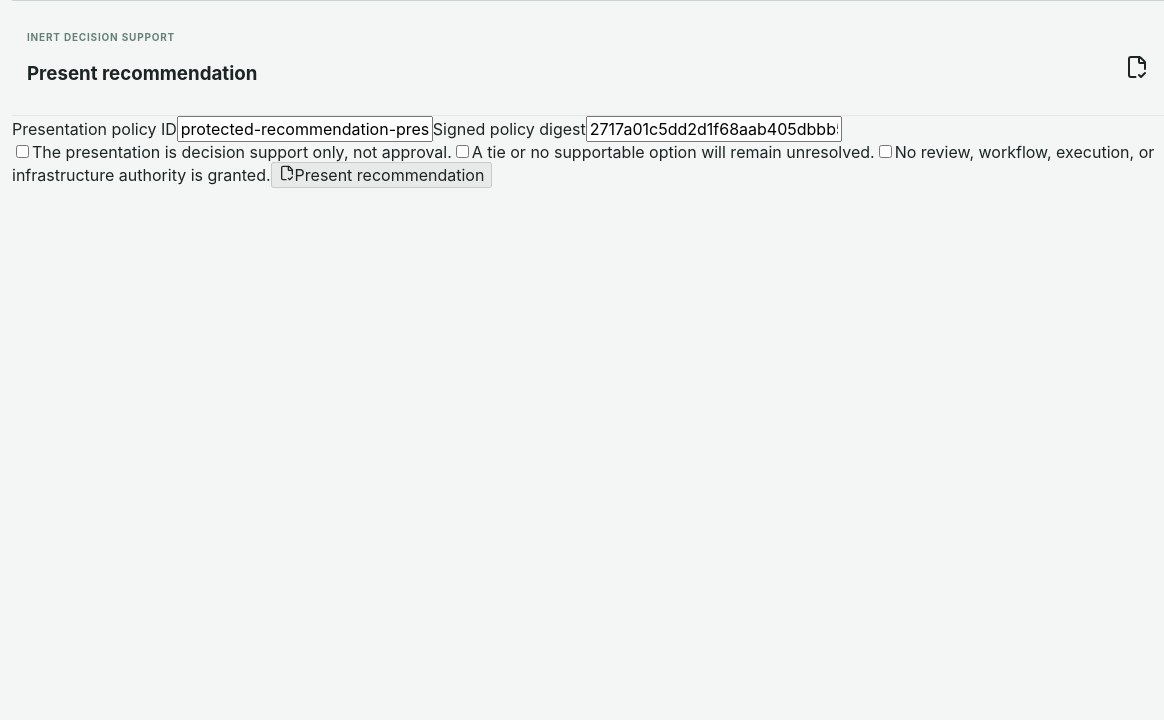
Test case: ProtectedRecommendationPresentationPanel › submits acknowledgements and renders safe recommendation details
Expected: the button "Present recommendation" is disabled, [271, 162, 492, 188]
Click the checkbox labelled "The presentation is decision support only, not approval.". click: (22, 152)
box: [16, 145, 29, 158]
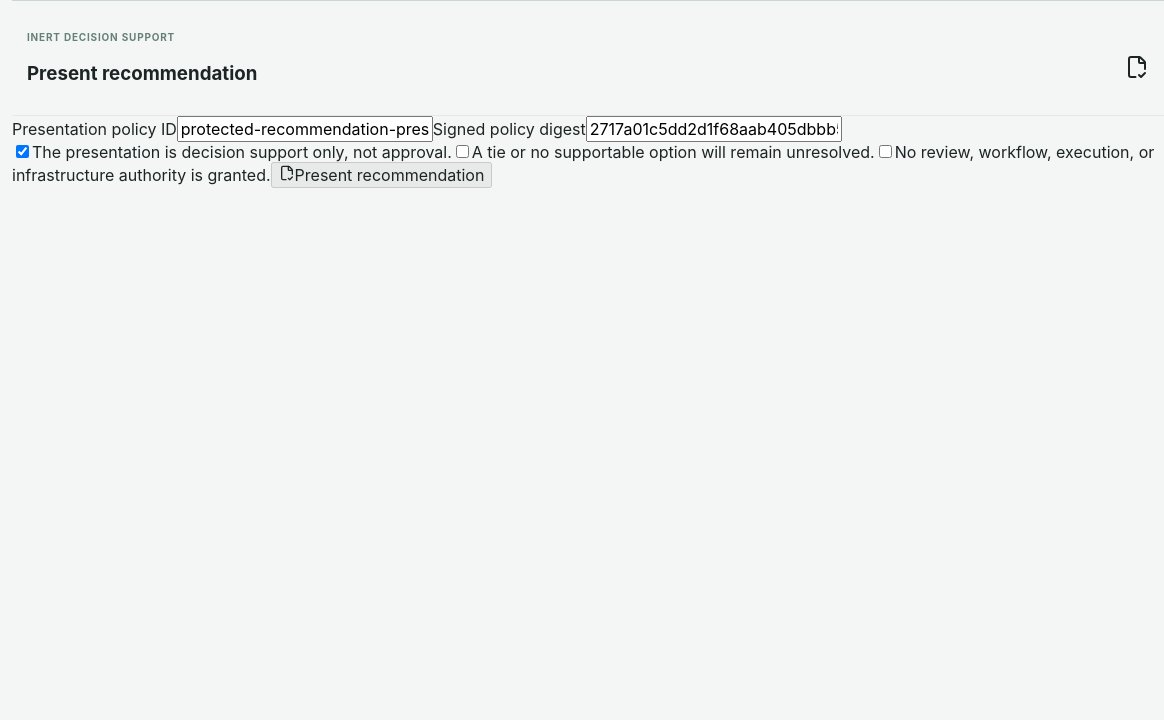
Click the checkbox labelled "A tie or no supportable option will remain unresolved.". click: (462, 152)
box: [456, 145, 469, 158]
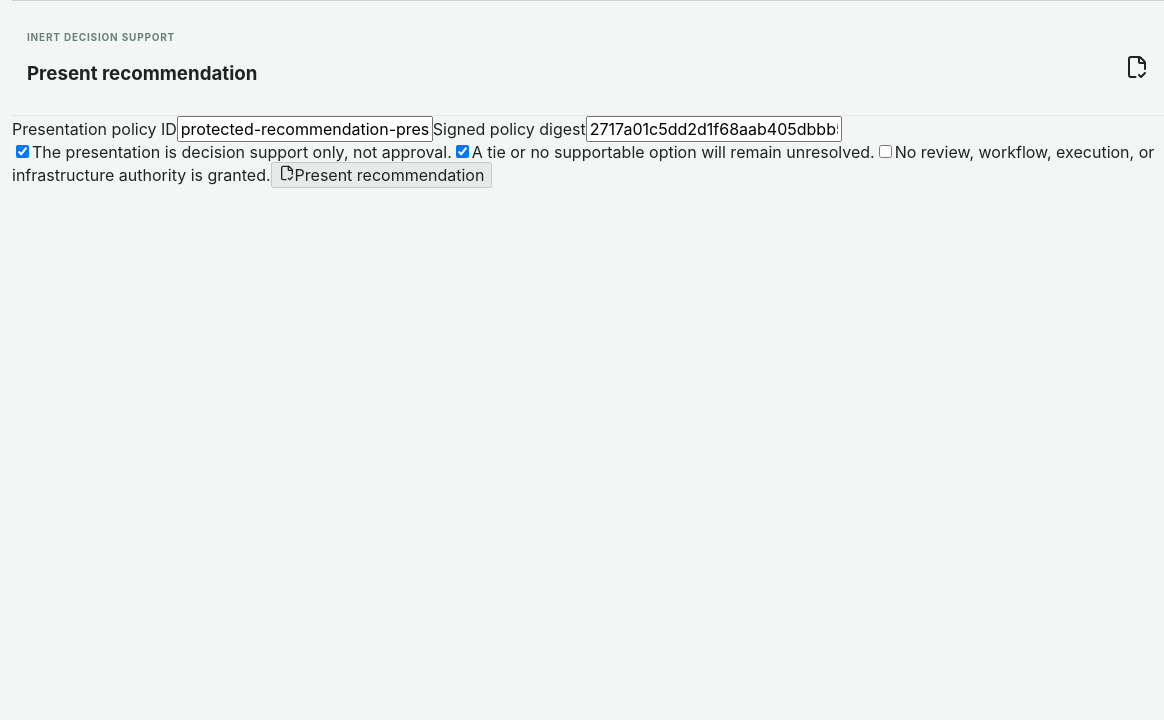
Click the checkbox labelled "No review, workflow, execution, or infrastructure authority is granted.". click: (885, 152)
box: [879, 145, 892, 158]
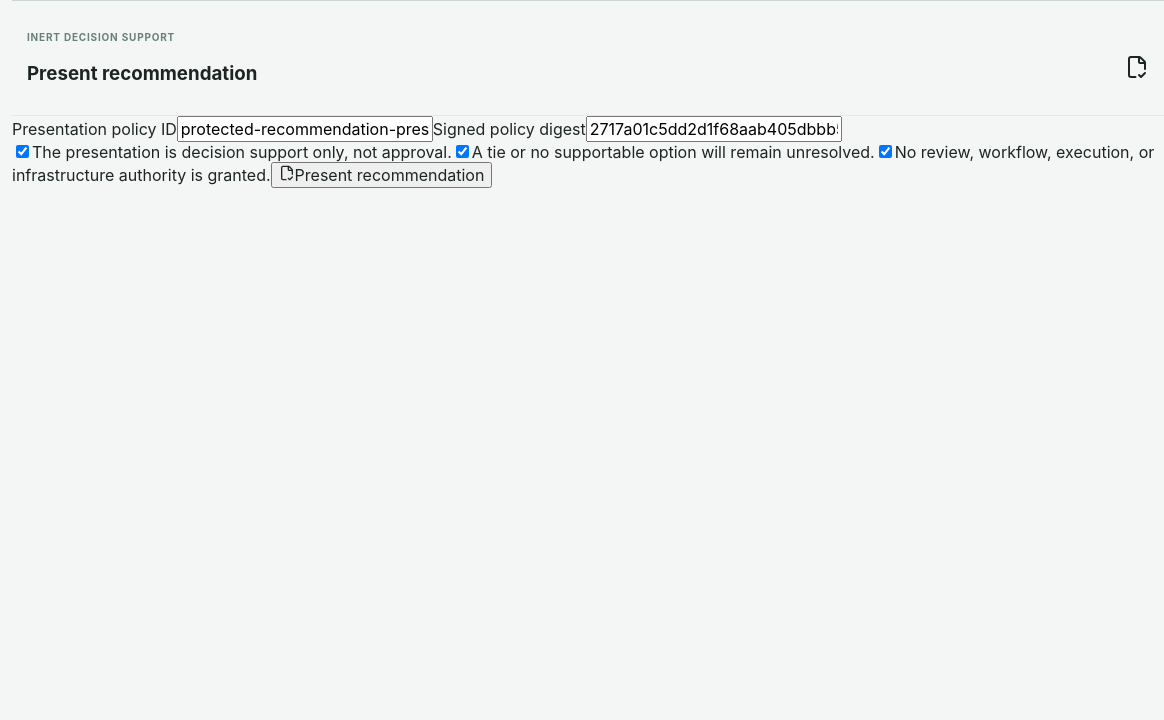
Result: the button "Present recommendation" is enabled
Click the button "Present recommendation". click: (382, 175)
box: [271, 162, 492, 188]
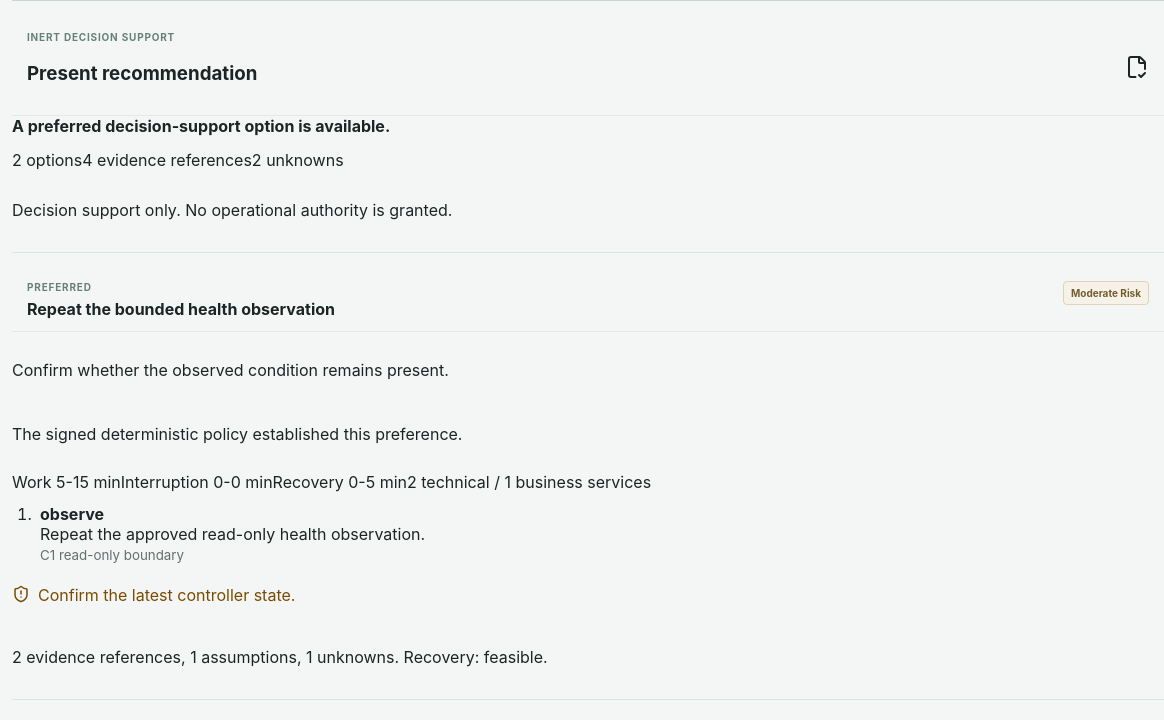
Result: the text "A preferred decision-support option is available." is shown at [12, 116, 390, 136]
Result: the heading "Repeat the bounded health observation" is shown at [27, 299, 335, 319]
Result: the text "2 options" is shown at [12, 150, 82, 170]
